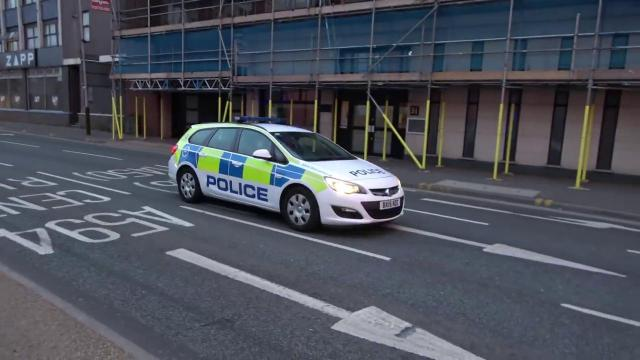police: (162, 118, 413, 225)
